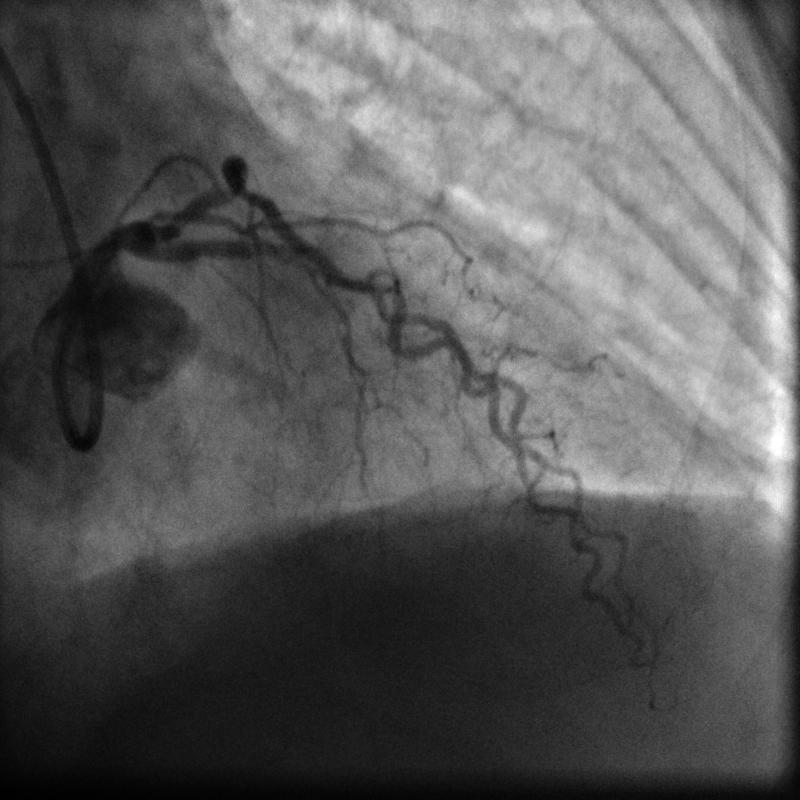Stenosis: (252, 226, 312, 276)
